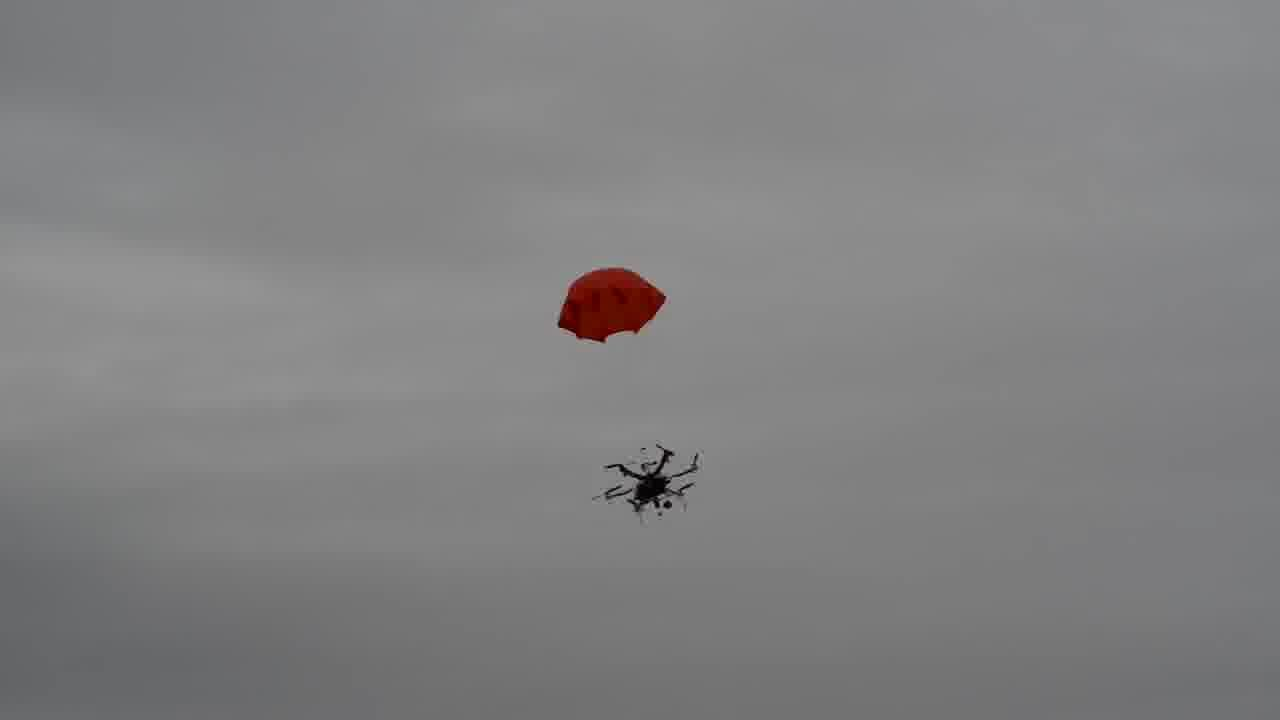drone: (588, 445, 706, 523)
